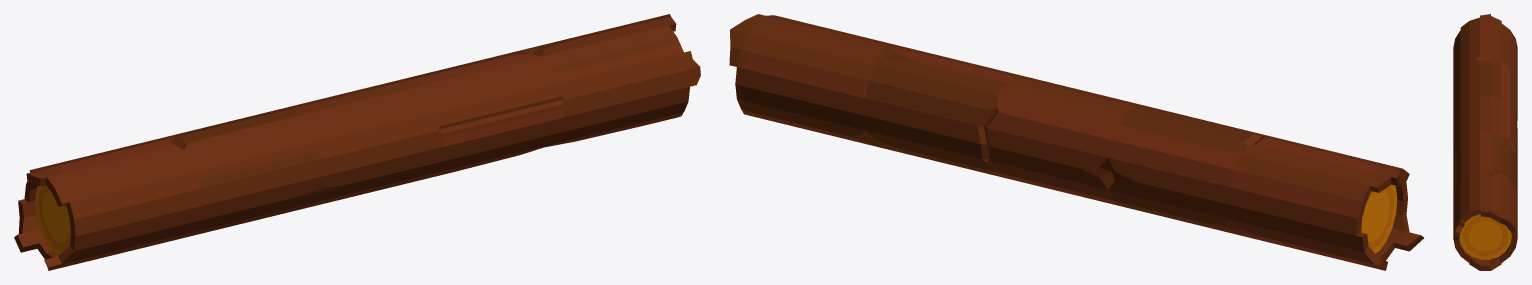
The model's file is Log_15.fbx.
3 renders of one model, left to right at view 1: azimuth 30°, elevation 25°; view 2: azimuth 150°, elevation 25°; view 3: azimuth 270°, elevation 25°, orthographic. The views are drawn at different scales.
Parts seen in each view (by area): view 1: Circle.393; view 2: Circle.393; view 3: Circle.393.
Part boxes in pixels (box(x1,y1,x2,y2)): Circle.393: box(14, 14, 700, 270); Circle.393: box(729, 14, 1423, 270); Circle.393: box(1453, 14, 1517, 270).
Bounding box in the file's own units: 174 × 23.2 × 23.56.
